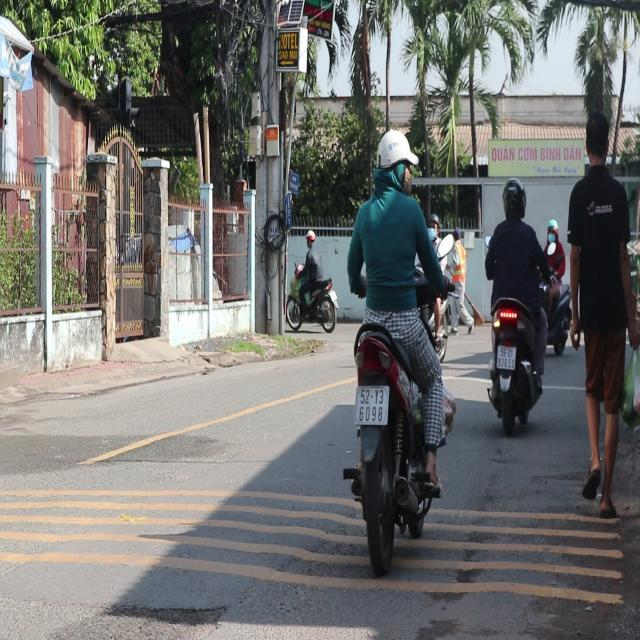helmet: (374, 126, 416, 194), (501, 176, 526, 218)
licenseplate: (340, 118, 456, 564), (482, 178, 548, 432)
nohelmet: (355, 387, 388, 424), (496, 345, 516, 368)
